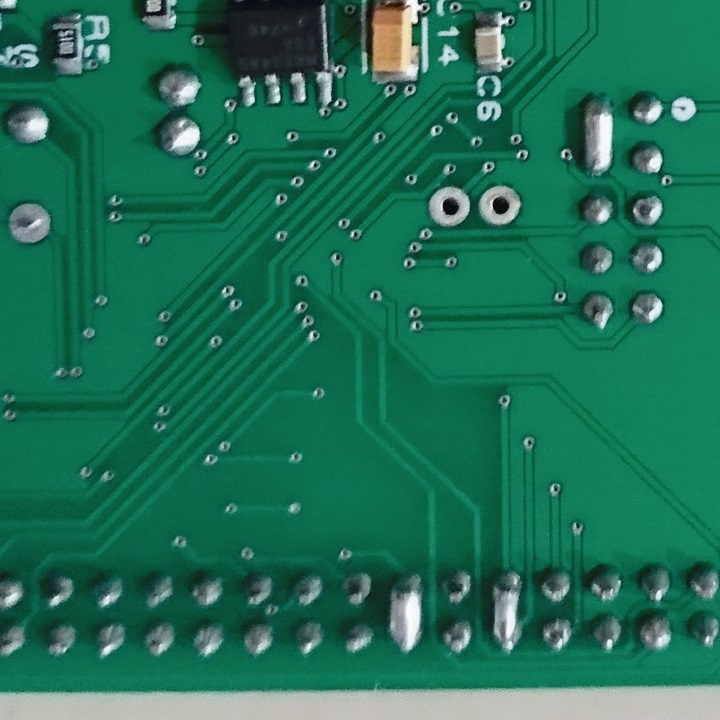F: (476, 180, 524, 232), (6, 200, 57, 246), (424, 181, 471, 229)
P: (384, 567, 429, 655), (576, 90, 618, 182), (490, 563, 525, 659)
